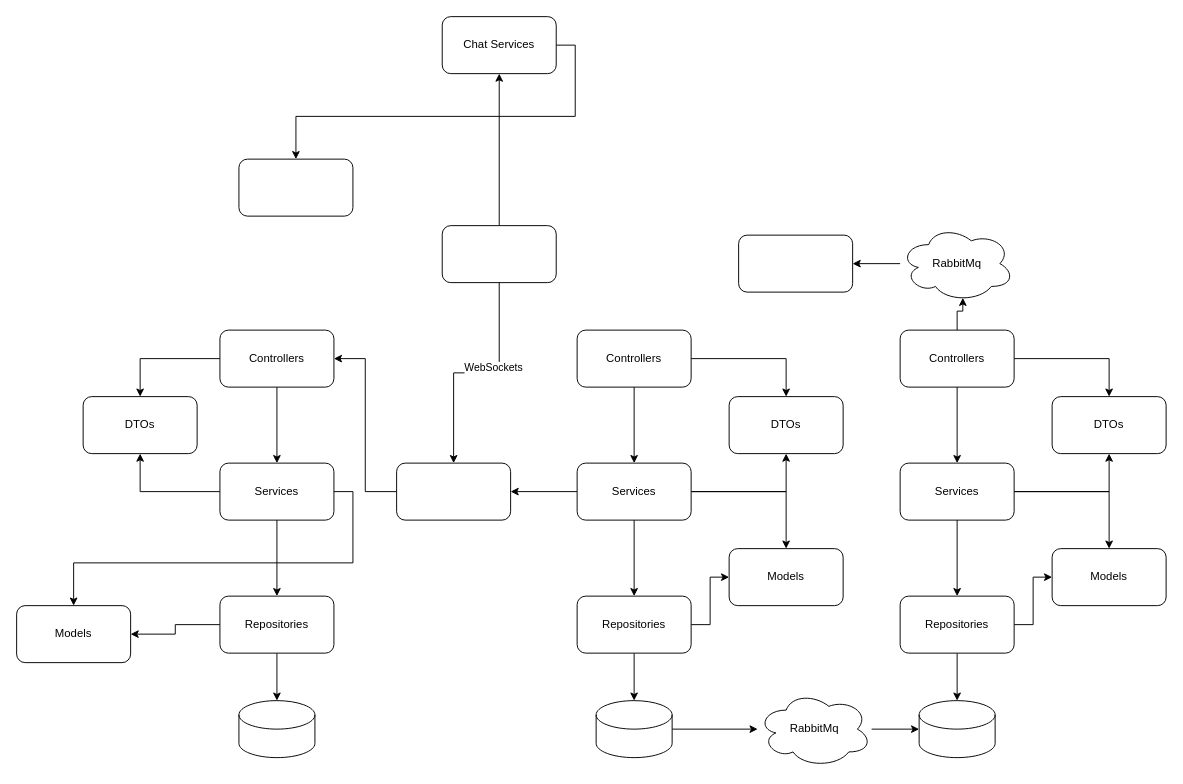
Image size: 1183x784. Some labels were removed from this diagram. Here are the shapes that lost their labels. From the top down, the box of each, then its label:
(238, 158, 353, 216): Chat model
(441, 225, 556, 283): Chat Controllers
(738, 234, 853, 292): Sensors
(396, 462, 511, 520): RestTemplate
(238, 700, 315, 758): Device Database
(595, 700, 672, 758): User Database
(918, 700, 995, 758): Monitoring Database
